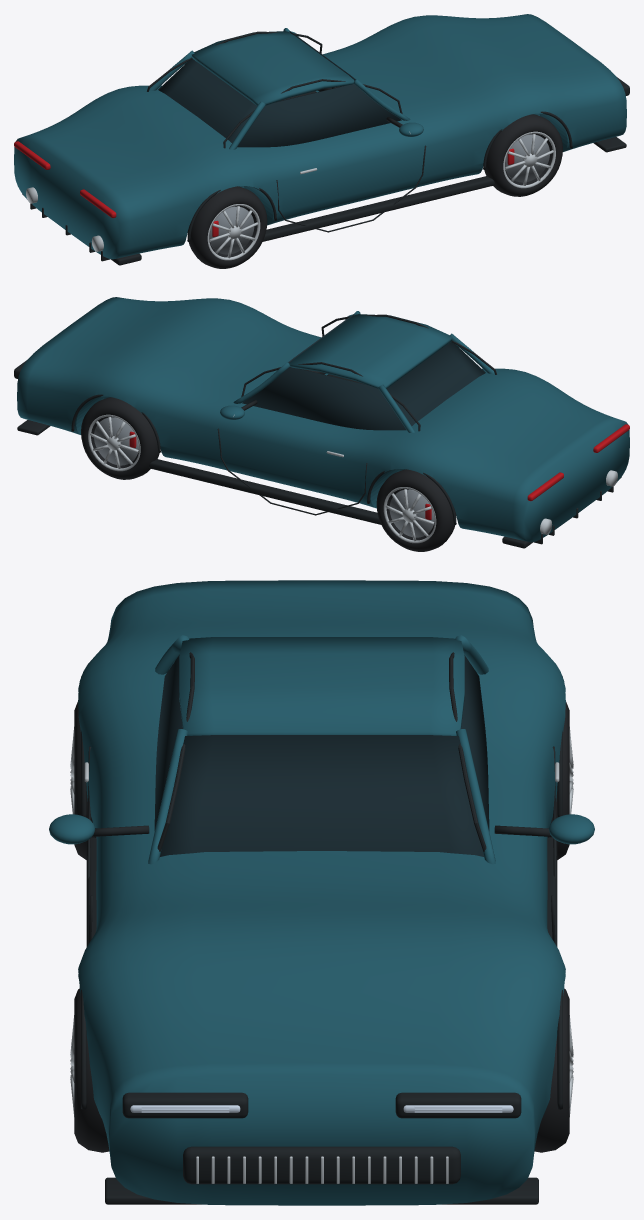
The model's file is asset.glb.
The picture shows the model from 3 angles, top to bottom: view 1: azimuth 30°, elevation 25°; view 2: azimuth 150°, elevation 25°; view 3: azimuth 270°, elevation 25°; orthographic projection. The views are drawn at different scales.
Visible parts, largest first — view 1: chassis, roof, side_glass_left, rear_glass, tyre_rear_left, tyre_front_left, sill_left, brake_rear_left, brake_front_left, rim_rear_left, rim_front_left, window_seal_left (+4 smaller); view 2: chassis, roof, side_glass_right, rear_glass, tyre_rear_right, tyre_front_right, sill_right, brake_rear_right, brake_front_right, rim_rear_right, rim_front_right, window_seal_right (+4 smaller); view 3: chassis, windshield, roof, front_grille, headlamp_surround_left, headlamp_surround_right, tyre_front_left, tyre_front_right, side_glass_left, side_glass_right, front_splitter, a_pillar_left (+9 smaller).
Boxes of the visible parts, x1,y1,x2,y2 form: chassis: (14,14,626,259); roof: (191,31,354,105); side_glass_left: (237,84,401,147); rear_glass: (159,58,256,142); tyre_rear_left: (187,186,267,268); tyre_front_left: (484,114,562,196); sill_left: (262,176,494,241); brake_rear_left: (209,206,254,254); brake_front_left: (505,134,549,182); rim_rear_left: (207,204,260,260); rim_front_left: (503,131,555,188); window_seal_left: (223,79,402,148); chassis: (17,297,629,542); roof: (289,314,452,388); side_glass_right: (242,367,406,430); rear_glass: (387,341,484,425); tyre_rear_right: (376,469,456,551); tyre_front_right: (81,397,159,479); sill_right: (149,459,381,524); brake_rear_right: (389,489,434,537); brake_front_right: (94,417,138,465); rim_rear_right: (383,487,436,543); rim_front_right: (88,414,140,471); window_seal_right: (241,362,420,431); chassis: (78,580,565,1205); windshield: (160,735,483,856); roof: (179,637,464,735); front_grille: (183,1146,460,1184); headlamp_surround_left: (122,1092,248,1118); headlamp_surround_right: (395,1092,521,1118); tyre_front_left: (74,988,109,1152); tyre_front_right: (534,988,569,1152); side_glass_left: (154,655,182,830); side_glass_right: (461,655,489,830); front_splitter: (105,1177,538,1204); a_pillar_left: (148,729,187,864).
Bounding box in the file's own units: 4.92 × 1.29 × 2.24.
